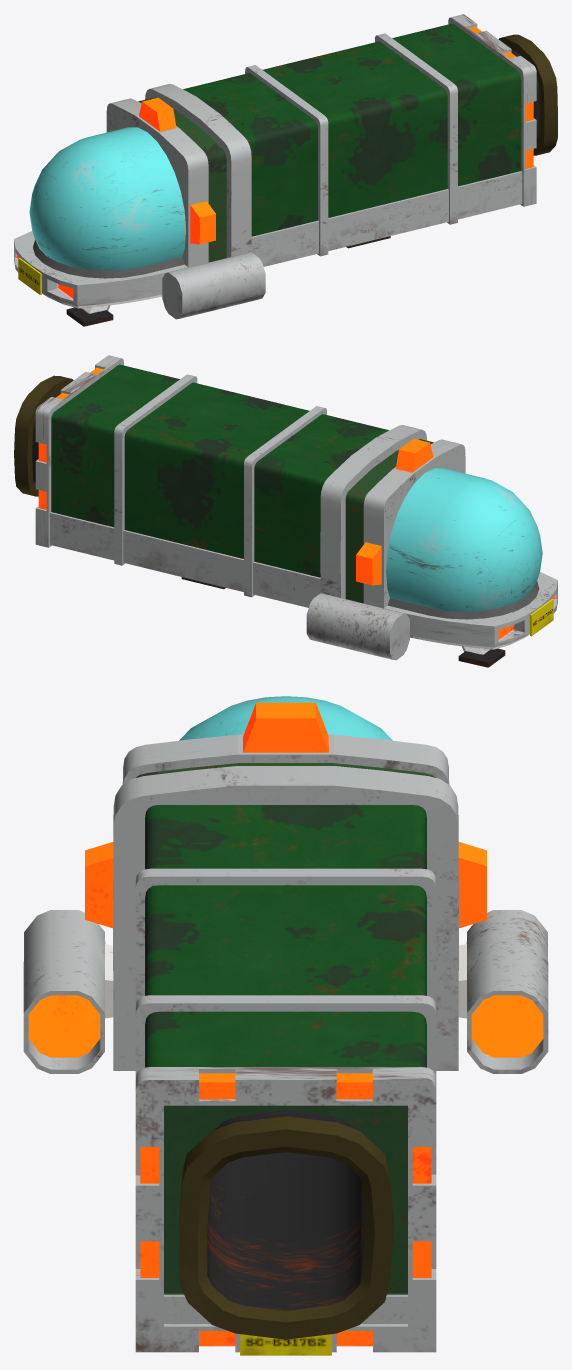
The model's file is garbage-ship_05-05-2021_02.fbx.
3 renders of one model, top to bottom at view 1: azimuth 30°, elevation 25°; view 2: azimuth 150°, elevation 25°; view 3: azimuth 270°, elevation 25°, orthographic. The views are drawn at different scales.
Parts seen in each view (by area): view 1: Box001; view 2: Box001; view 3: Box001.
Boxes of the visible parts, x1,y1,x2,y2 form: Box001: (14, 14, 557, 326); Box001: (14, 355, 557, 667); Box001: (23, 696, 548, 1355).
Size of the model in its own units: 123 by 40.53 by 55.81.
